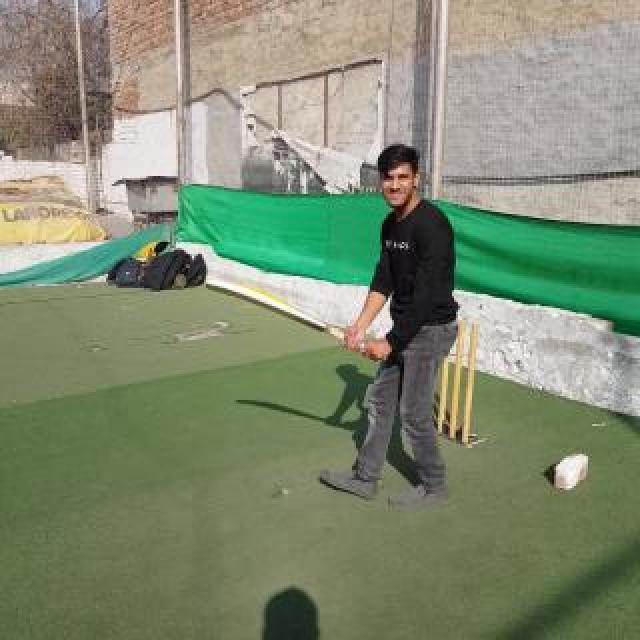bat: (205, 280, 387, 360)
